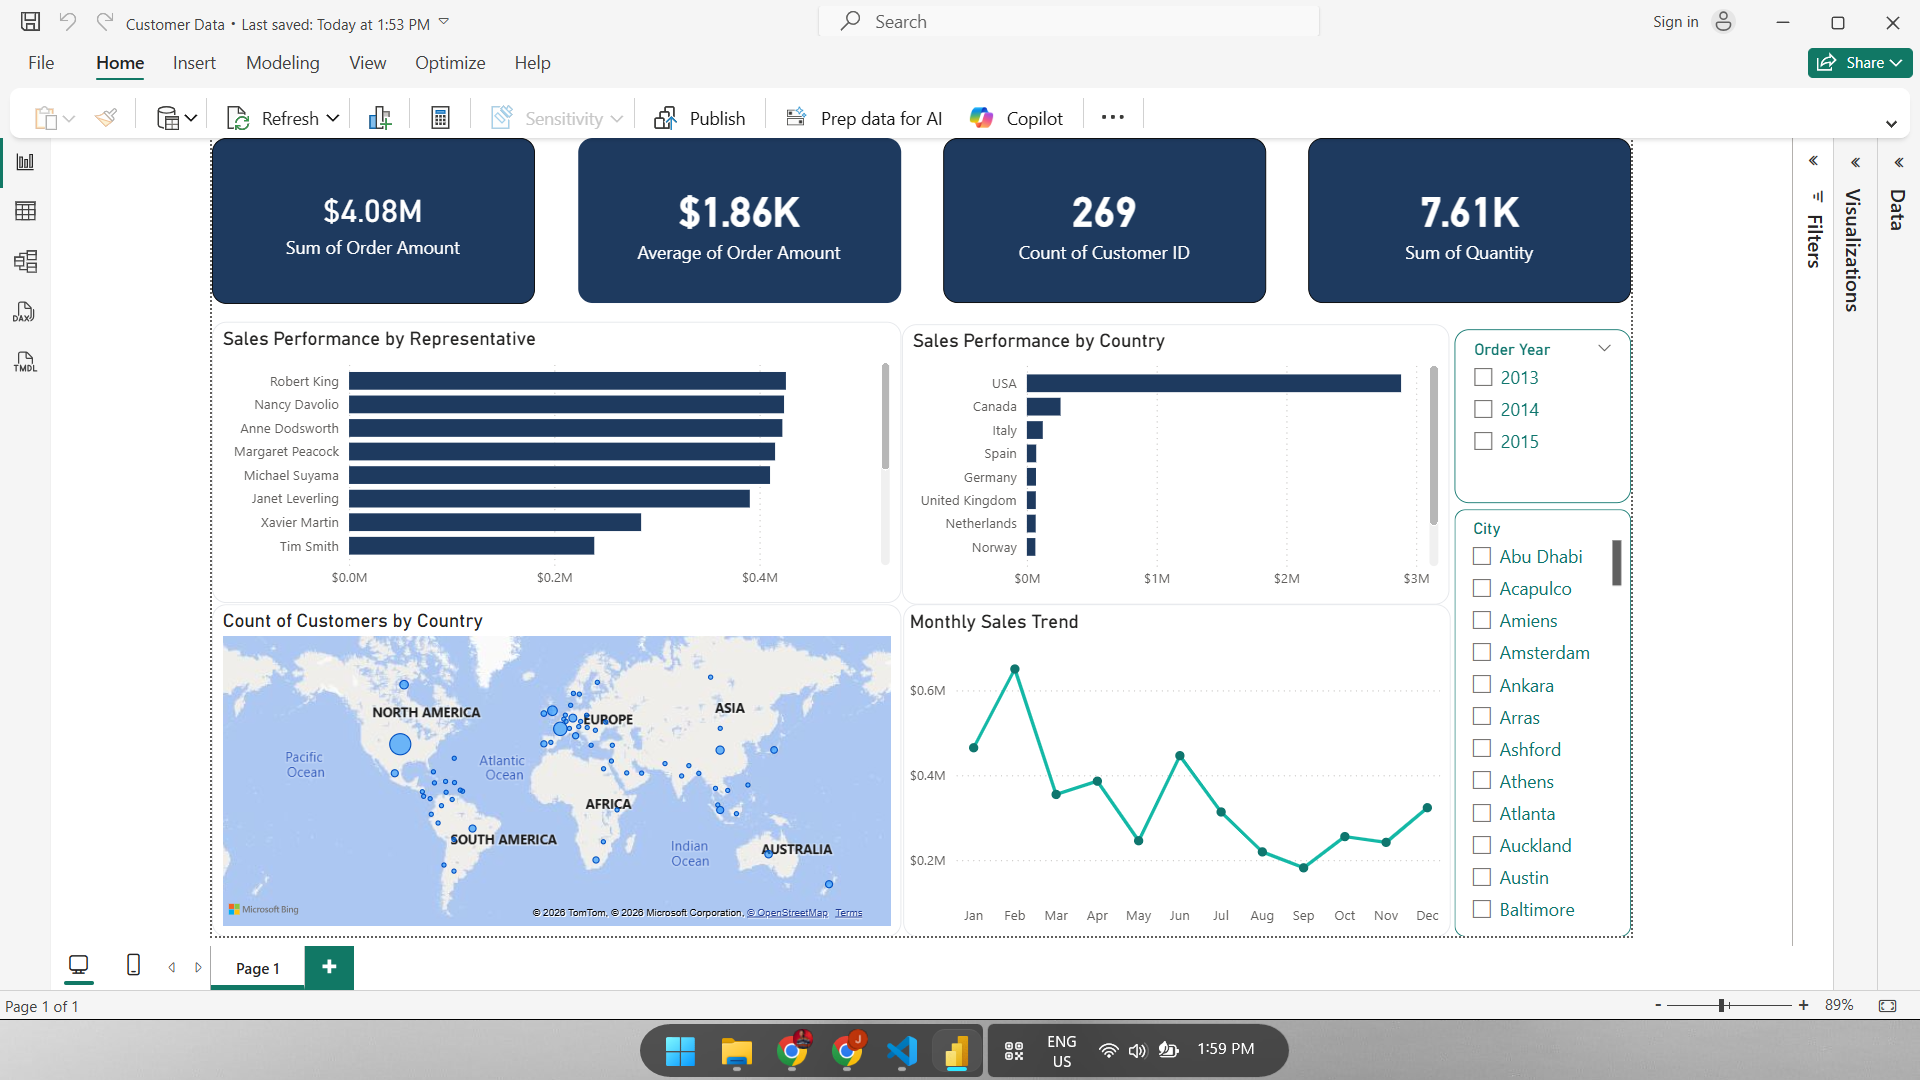

The page's visual inventory and layout, read from the dashboard file:
{"tool":"powerbi","page":{"name":"Page 1","canvas":[1280,720],"ordinal":0},"visuals":[{"type":"card","fields":{"Values":["Sum(Orders.Order Amount)"]},"box":[0,0,291.1,149.3],"z":0},{"type":"card","fields":{"Values":["Avg(Orders.Order Amount)"]},"box":[329.7,0,291,149],"z":1000},{"type":"card","fields":{"Values":["Count(Orders.Customer ID)"]},"box":[659.3,0,291,149],"z":2000},{"type":"slicer","fields":{"Values":["Orders.Order Year"]},"box":[1120.8,172.9,159.2,156.7],"z":3000},{"type":"card","fields":{"Values":["Sum(Order Details.Quantity)"]},"box":[988.9,0,291.1,149],"z":4000},{"type":"slicer","fields":{"Values":["Customers.City"]},"box":[1120.8,334.6,159.2,385.6],"z":5000},{"type":"barChart","title":"Sales Performance by Representative","fields":{"Category":["Sales Reps.Sales Rep"],"Y":["Sum(Orders.Order Amount)"]},"box":[0,166,621.6,253.9],"z":6000},{"type":"map","title":"Count of Customers by Country","fields":{"Category":["Customers.Country"],"Size":["Count(Customers.Customer ID)"]},"box":[0,420.5,622,299.8],"z":7000},{"type":"barChart","title":"Sales Performance by Country","fields":{"Category":["Customers.Country"],"Y":["Sum(Orders.Order Amount)"]},"box":[621.6,167.4,494,252.5],"z":8000},{"type":"lineChart","title":"Monthly Sales Trend","fields":{"Category":["Calendar  2.MonthNameShort"],"Y":["Sum(Orders.Order Amount)"]},"box":[623.2,420.2,493.9,299.8],"z":9000}]}

Visuals, with their boxes on the page's 1280x720 design canvas (x1, y1, x2, y2). These are canvas units, not pixel positions in the 1920x1080 screenshot, which may show the page scaled, cropped or inside an application window:
card - Sum(Orders.Order Amount): BBox(0, 0, 291, 149)
card - Avg(Orders.Order Amount): BBox(330, 0, 621, 149)
card - Count(Orders.Customer ID): BBox(659, 0, 950, 149)
slicer - Orders.Order Year: BBox(1121, 173, 1280, 330)
card - Sum(Order Details.Quantity): BBox(989, 0, 1280, 149)
slicer - Customers.City: BBox(1121, 335, 1280, 720)
"Sales Performance by Representative" barChart: BBox(0, 166, 622, 420)
"Count of Customers by Country" map: BBox(0, 420, 622, 720)
"Sales Performance by Country" barChart: BBox(622, 167, 1116, 420)
"Monthly Sales Trend" lineChart: BBox(623, 420, 1117, 720)
